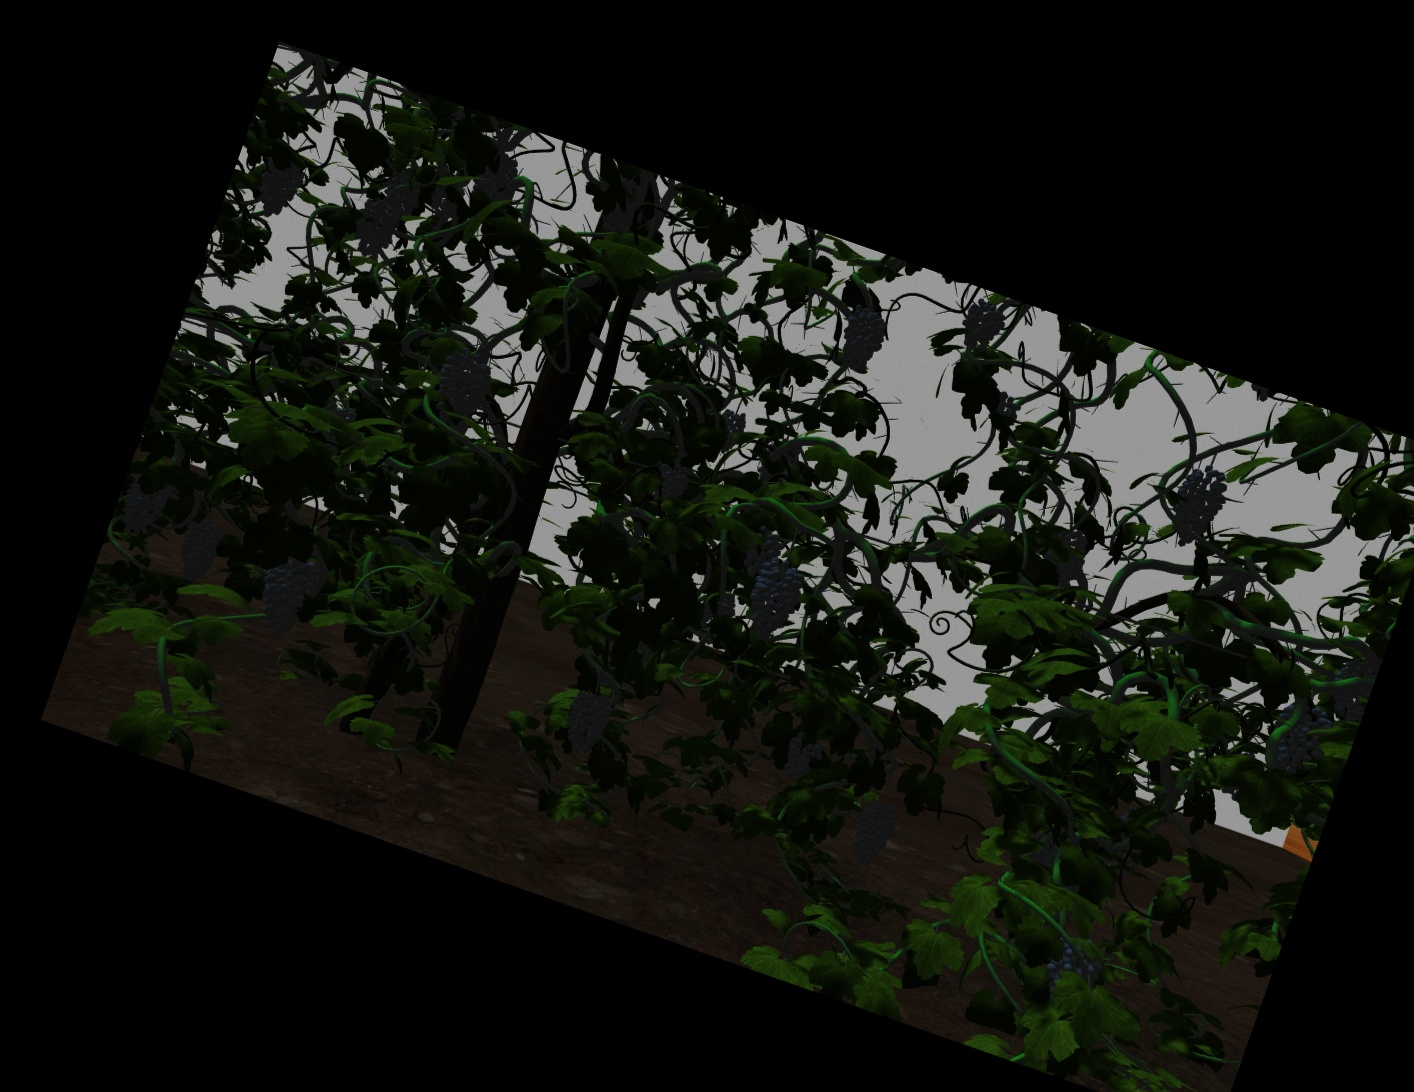grape: (1265, 702, 1326, 773), (1171, 463, 1222, 547), (744, 561, 797, 640), (257, 555, 306, 635), (435, 353, 490, 419), (1046, 939, 1094, 1007), (564, 685, 609, 755), (119, 474, 164, 543), (253, 150, 299, 217), (839, 305, 884, 370), (851, 798, 890, 867), (783, 730, 823, 787), (354, 201, 393, 259), (178, 522, 214, 582), (961, 301, 1002, 348), (744, 526, 778, 576), (384, 173, 420, 213), (655, 462, 689, 497), (717, 409, 743, 454)
